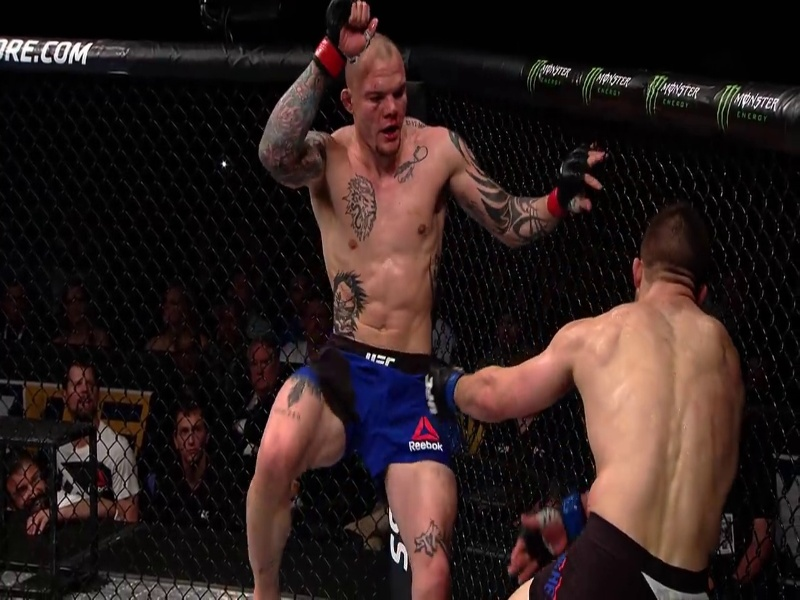fighter: (249, 1, 599, 595), (442, 194, 754, 600)
